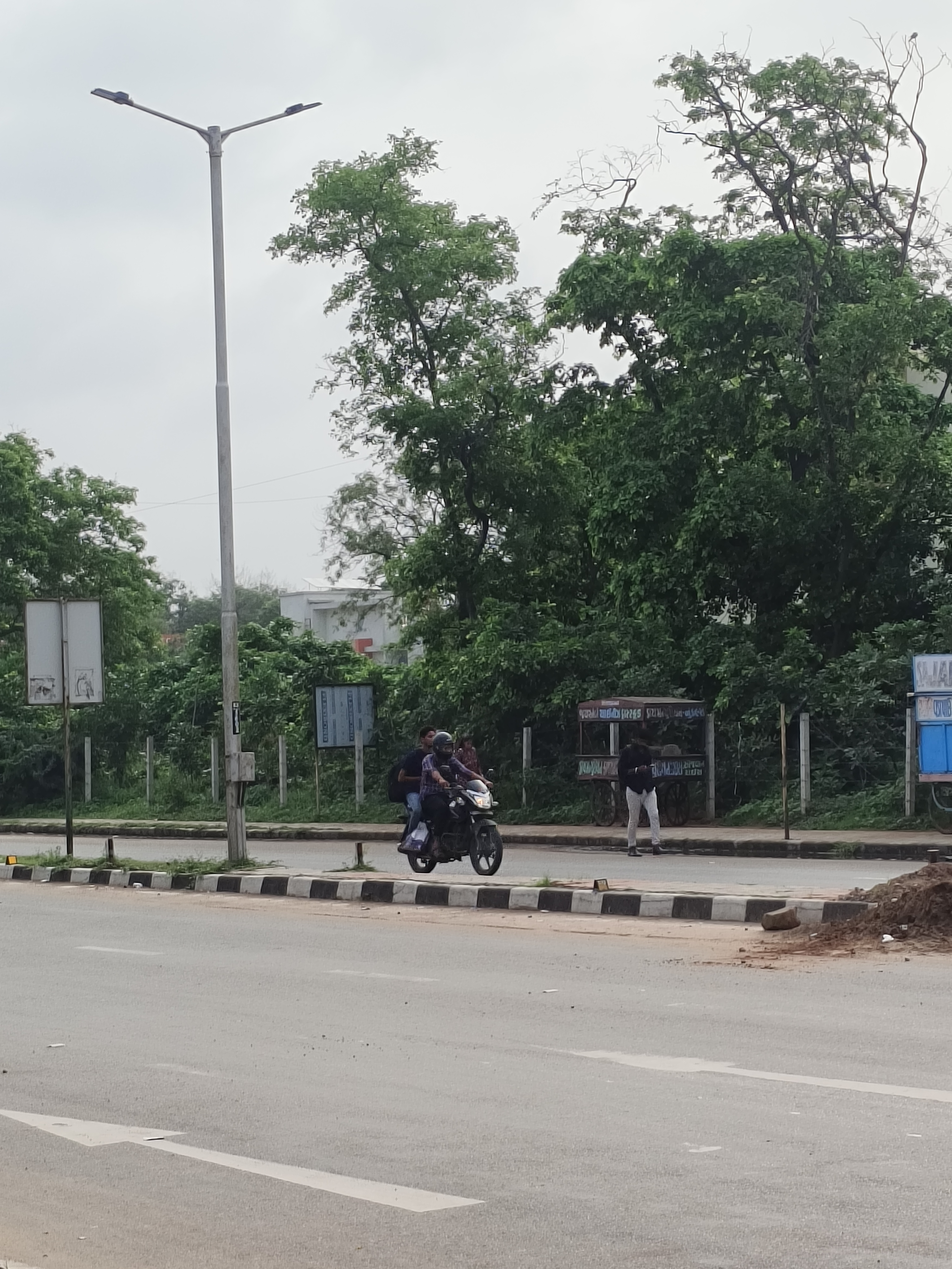BikeWithRider: (388, 723, 507, 877)
Helmet: (432, 730, 456, 761)
NoHelmet: (419, 724, 436, 749)
